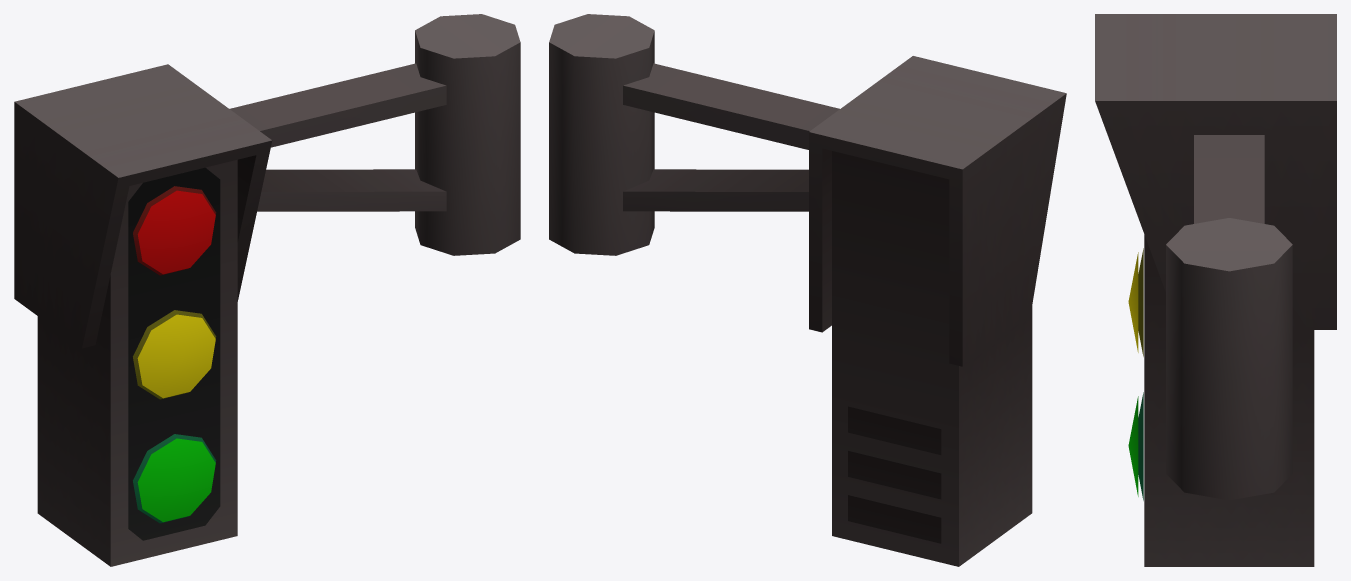
The model's file is Stoplight_5A.fbx.
3 views of the same model, side by side, from view 1: azimuth 30°, elevation 25°; view 2: azimuth 150°, elevation 25°; view 3: azimuth 270°, elevation 25° (orthographic). The views are drawn at different scales.
Visible parts, largest first — view 1: Stoplight_5A, Stoplight_5C_Light_Yellow, Stoplight_5C_Light_Green, Stoplight_5C_Light_Red; view 2: Stoplight_5A; view 3: Stoplight_5A, Stoplight_5C_Light_Yellow, Stoplight_5C_Light_Green.
Boxes of the visible parts, x1,y1,x2,y2 form: Stoplight_5A: (14,14,520,566); Stoplight_5C_Light_Yellow: (137,314,215,398); Stoplight_5C_Light_Green: (137,438,215,522); Stoplight_5C_Light_Red: (137,190,215,274); Stoplight_5A: (549,14,1066,566); Stoplight_5A: (1095,14,1336,566); Stoplight_5C_Light_Yellow: (1128,252,1138,352); Stoplight_5C_Light_Green: (1128,396,1138,496).
Bounding box in the file's own units: 175 × 150 × 69.32.
